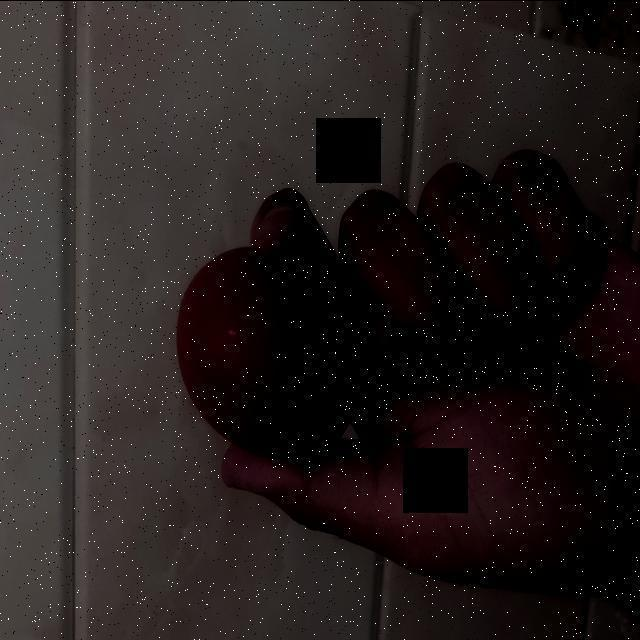egg: (176, 243, 364, 465)
